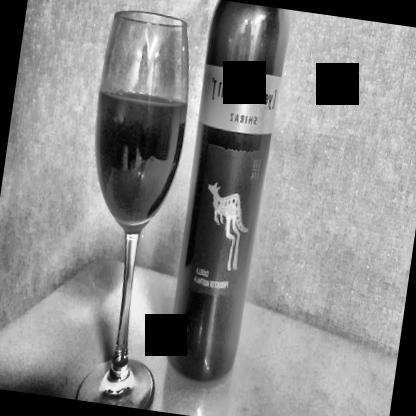yellowtail: (172, 64, 282, 314)
